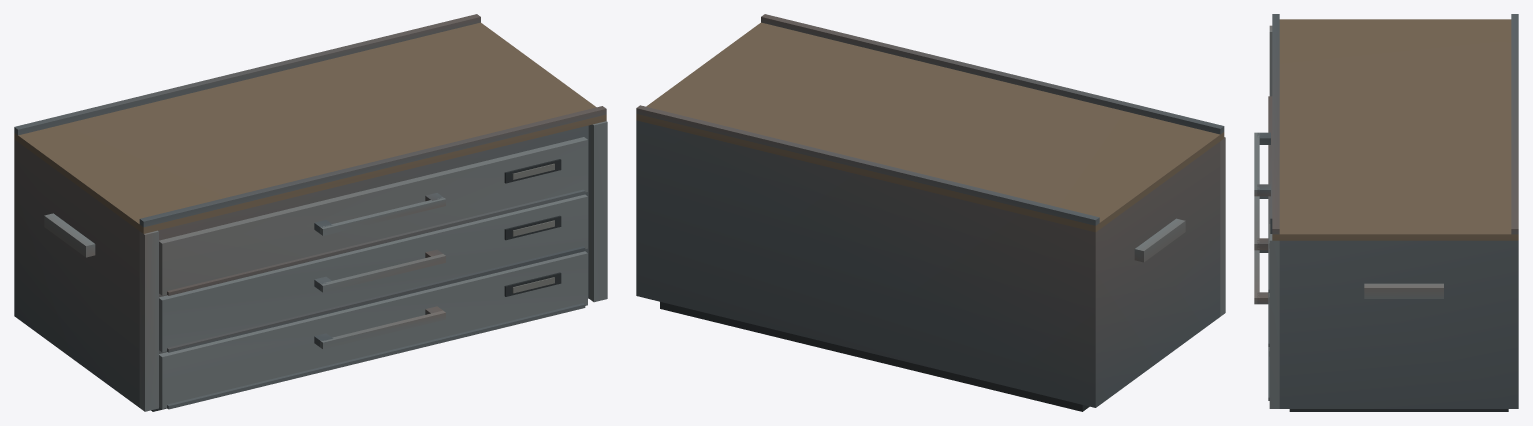
The model's file is tool_chest.glb.
3 renders of one model, left to right at view 1: azimuth 30°, elevation 25°; view 2: azimuth 150°, elevation 25°; view 3: azimuth 270°, elevation 25°, orthographic. The views are drawn at different scales.
Parts seen in each view (by area): view 1: tool_chest; view 2: tool_chest; view 3: tool_chest.
Part boxes in pixels (x1,y1,x2,y2): tool_chest: (14, 14, 607, 411); tool_chest: (636, 14, 1225, 411); tool_chest: (1254, 14, 1518, 411).
Size of the model in its own units: 2 by 0.8 by 1.
